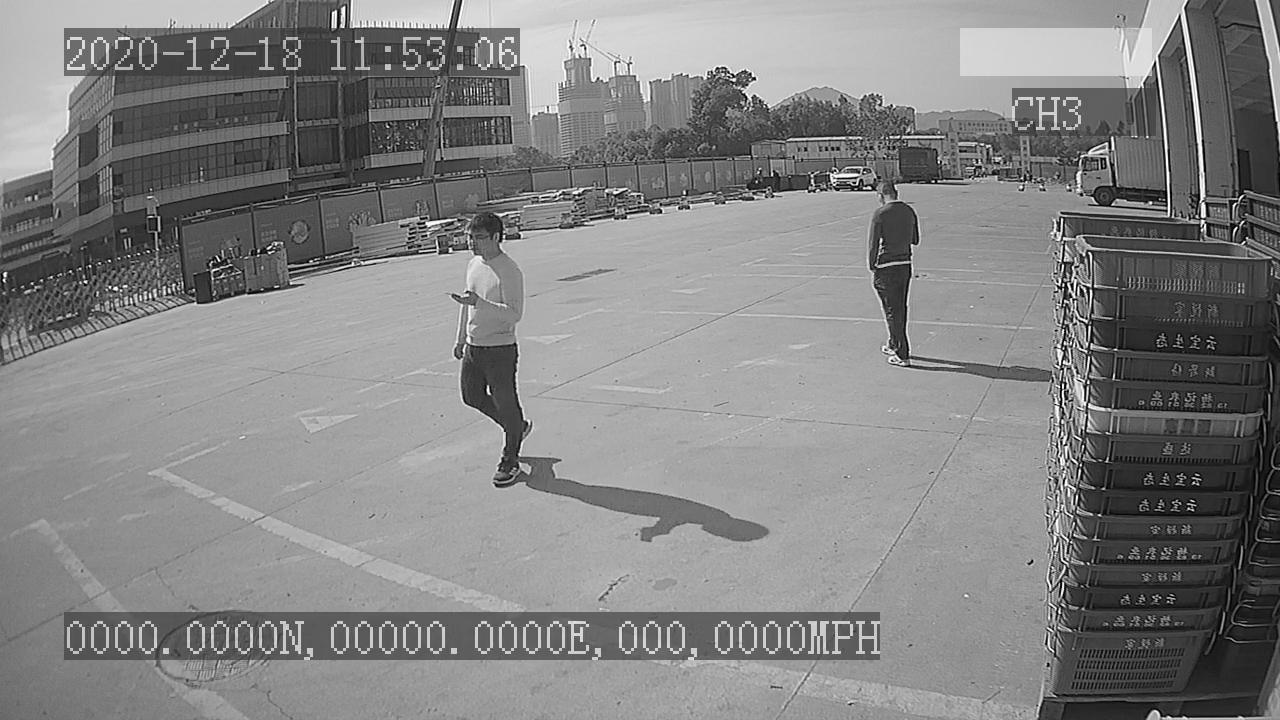person: (440, 204, 543, 494), (859, 179, 926, 378)
